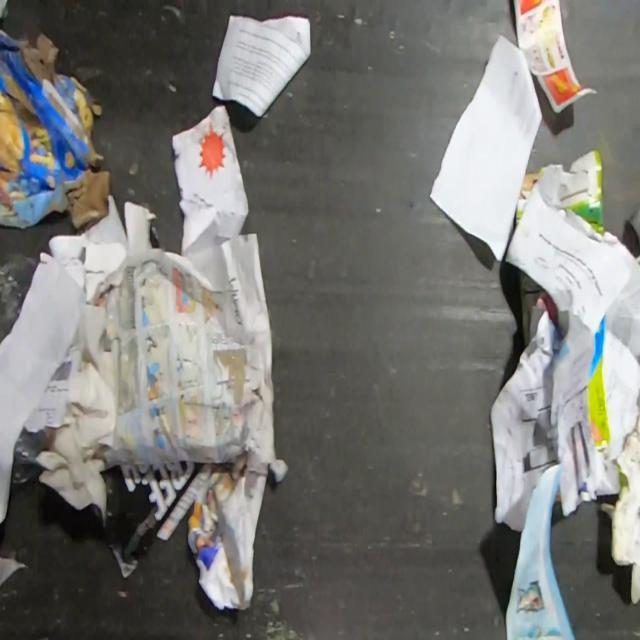cardboard: (0, 28, 112, 231), (47, 194, 230, 306), (99, 459, 234, 579), (515, 148, 620, 245), (517, 266, 558, 350)
soft_plastic: (0, 249, 39, 346), (11, 428, 52, 487)
